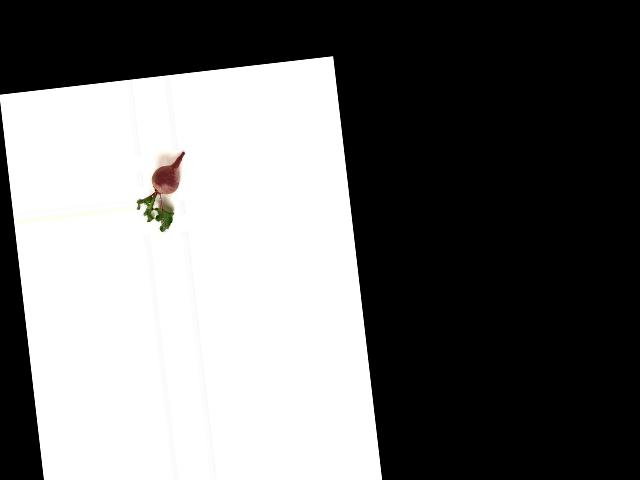beet: (131, 152, 193, 234)
